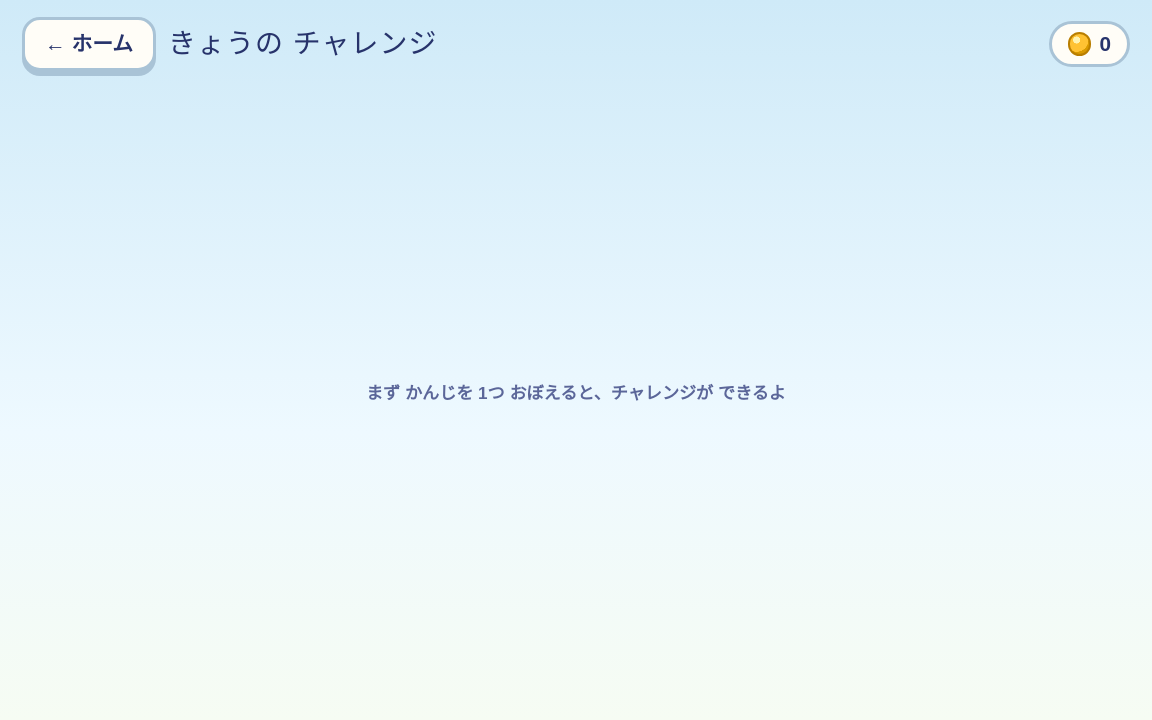
Scenario: 1日の時間の上限 › あそびの とちゅうでは 切らない。ホームに もどった所で「ここまで」になる
Earlier steps of the test are not shown.
Expected: the heading "きょうの チャレンジ" is shown, [168, 23, 438, 65]
Click the button "← ホーム" at x=89, y=44, box [22, 17, 156, 71]
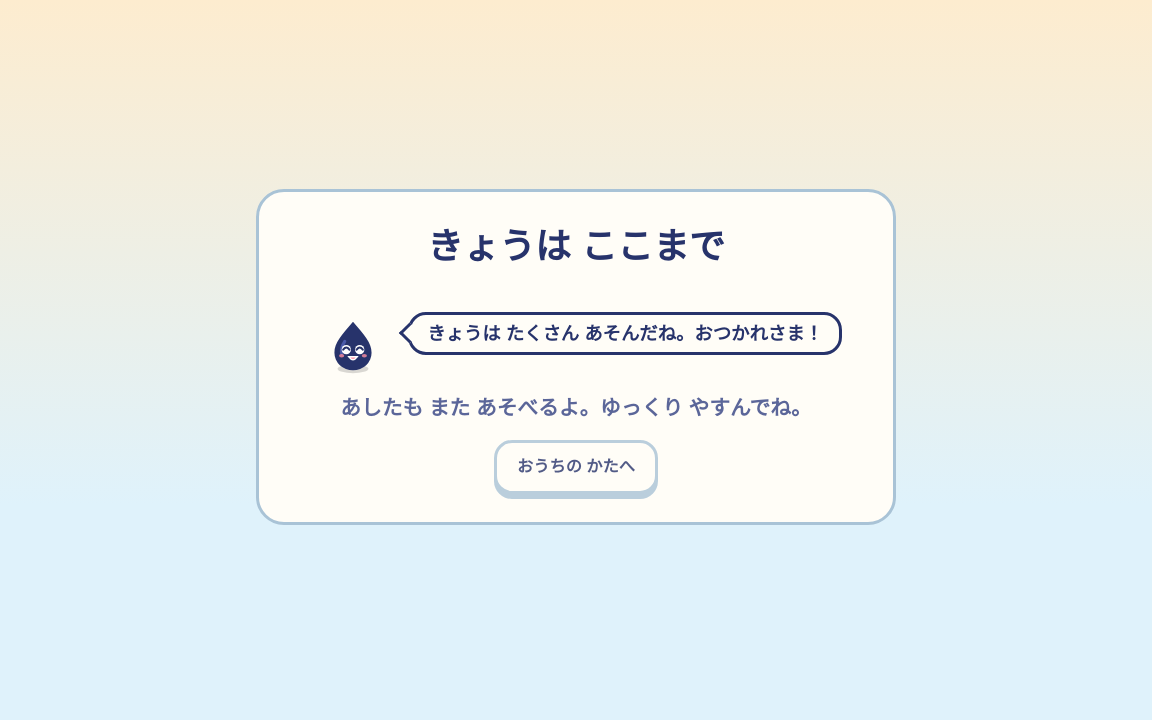
Expected: the heading "きょうは ここまで" is shown, [427, 220, 725, 274]
